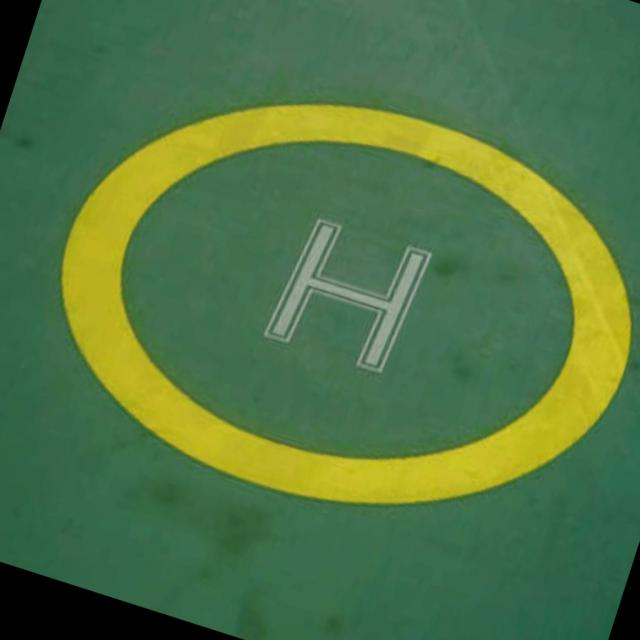helipad: (56, 100, 634, 508)
